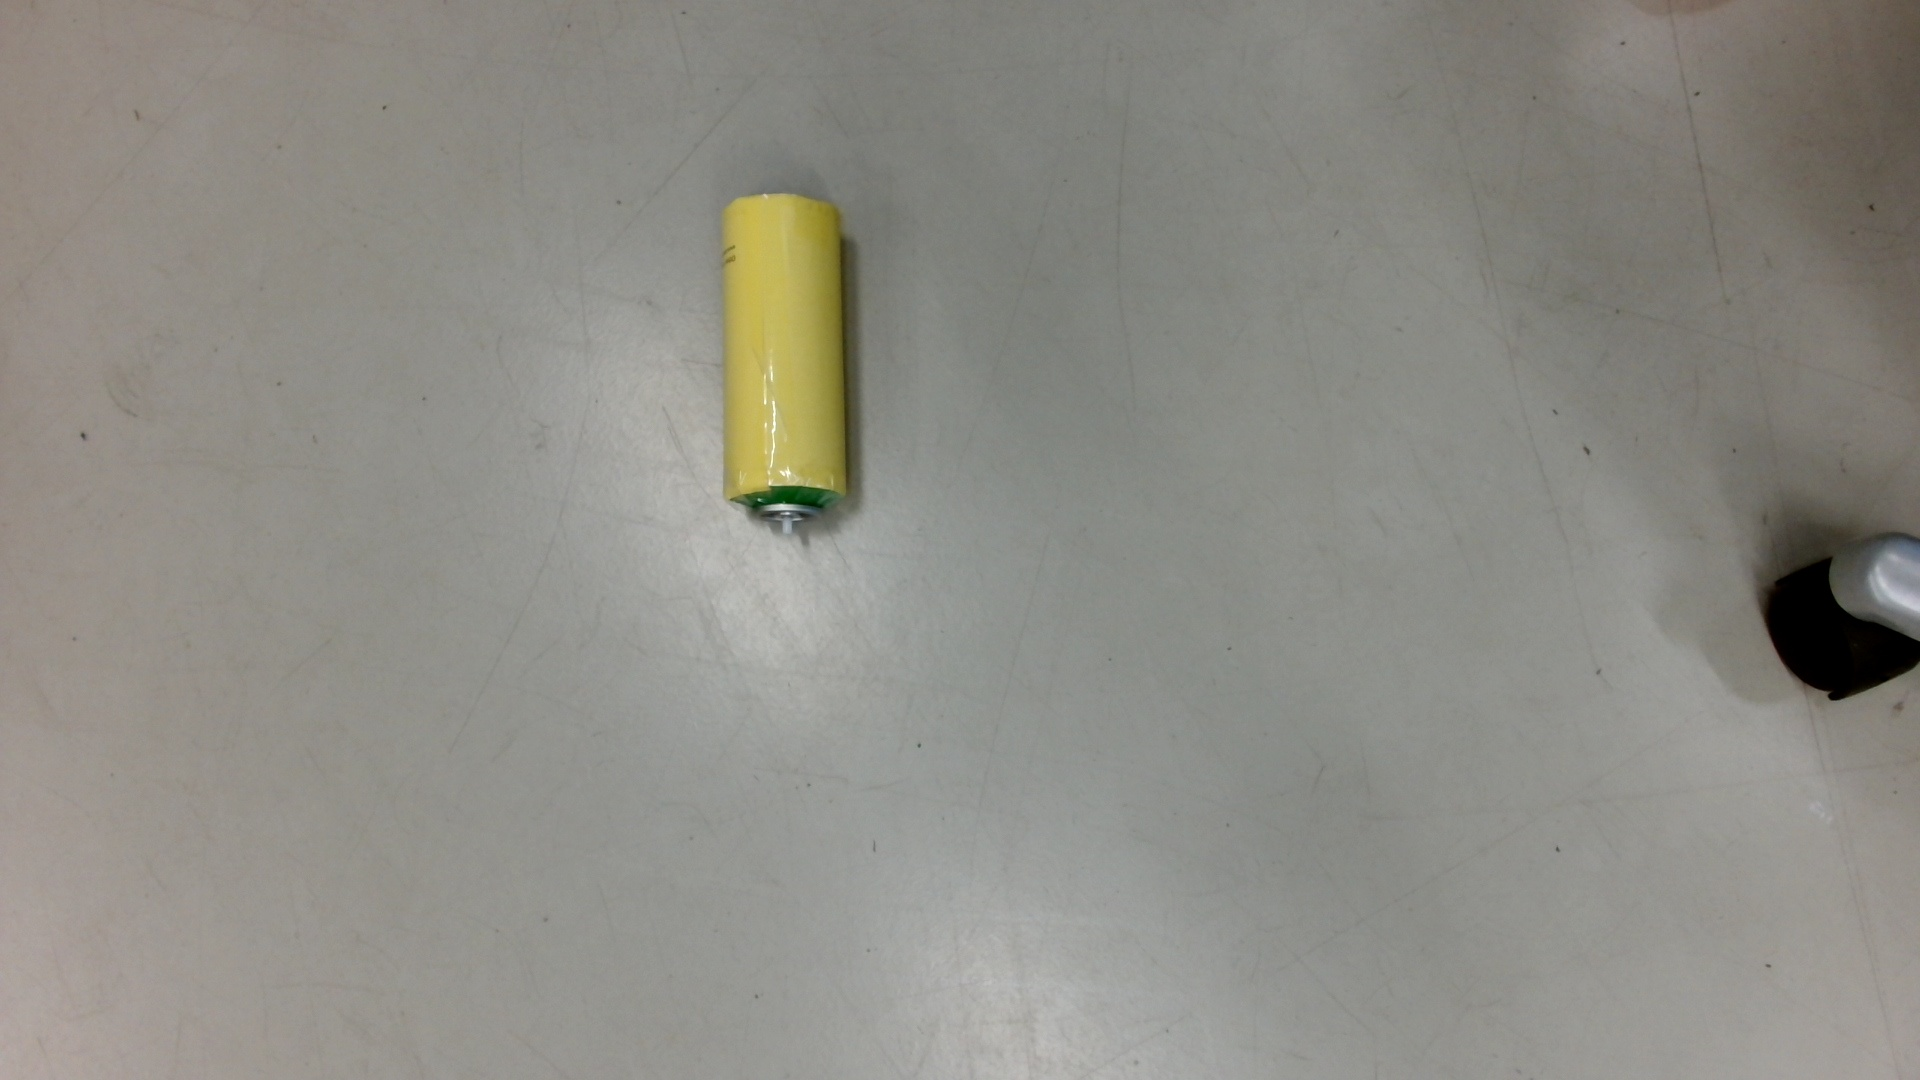Cylinder: (708, 185, 868, 546)
